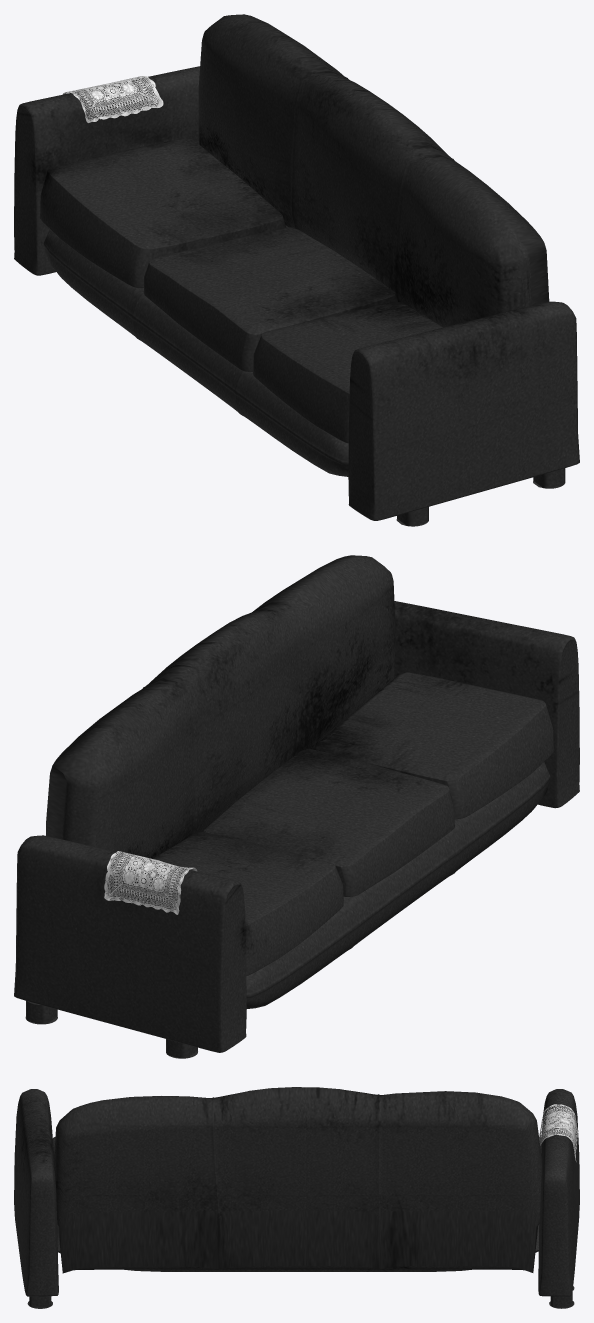
Rendered from couch.fbx.
The picture shows the model from 3 angles, top to bottom: view 1: azimuth 30°, elevation 25°; view 2: azimuth 150°, elevation 25°; view 3: azimuth 270°, elevation 25°; orthographic projection. The views are drawn at different scales.
Visible parts, largest first — view 1: Couch01, Doily_SQ; view 2: Couch01, Doily_SQ; view 3: Couch01, Doily_SQ.
Boxes of the visible parts, x1,y1,x2,y2 form: Couch01: (14,14,579,526); Doily_SQ: (63,76,163,122); Couch01: (14,555,579,1058); Doily_SQ: (104,851,197,914); Couch01: (14,1087,579,1308); Doily_SQ: (539,1104,578,1161).
Bounding box in the file's own units: 2.64 × 3.02 × 7.41.
